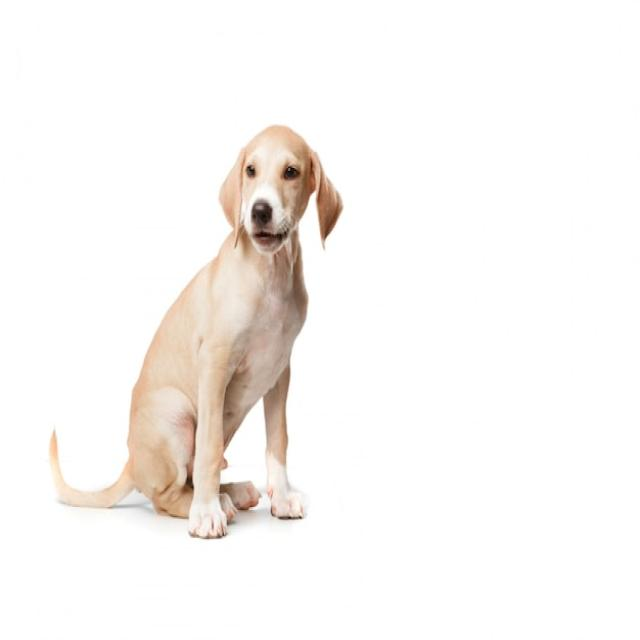Dog: (50, 124, 344, 541)
